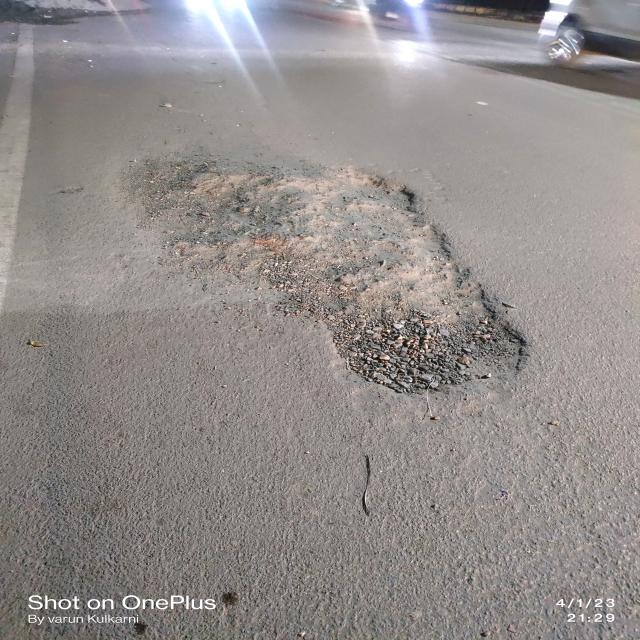potholes: (116, 155, 541, 423)
